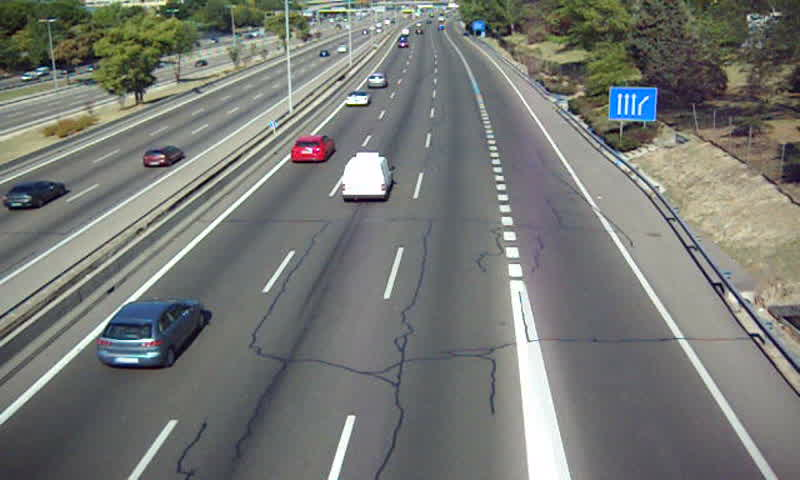car: (98, 299, 205, 367), (291, 136, 334, 162), (344, 91, 372, 106), (366, 72, 386, 89)
van: (343, 152, 395, 200)
